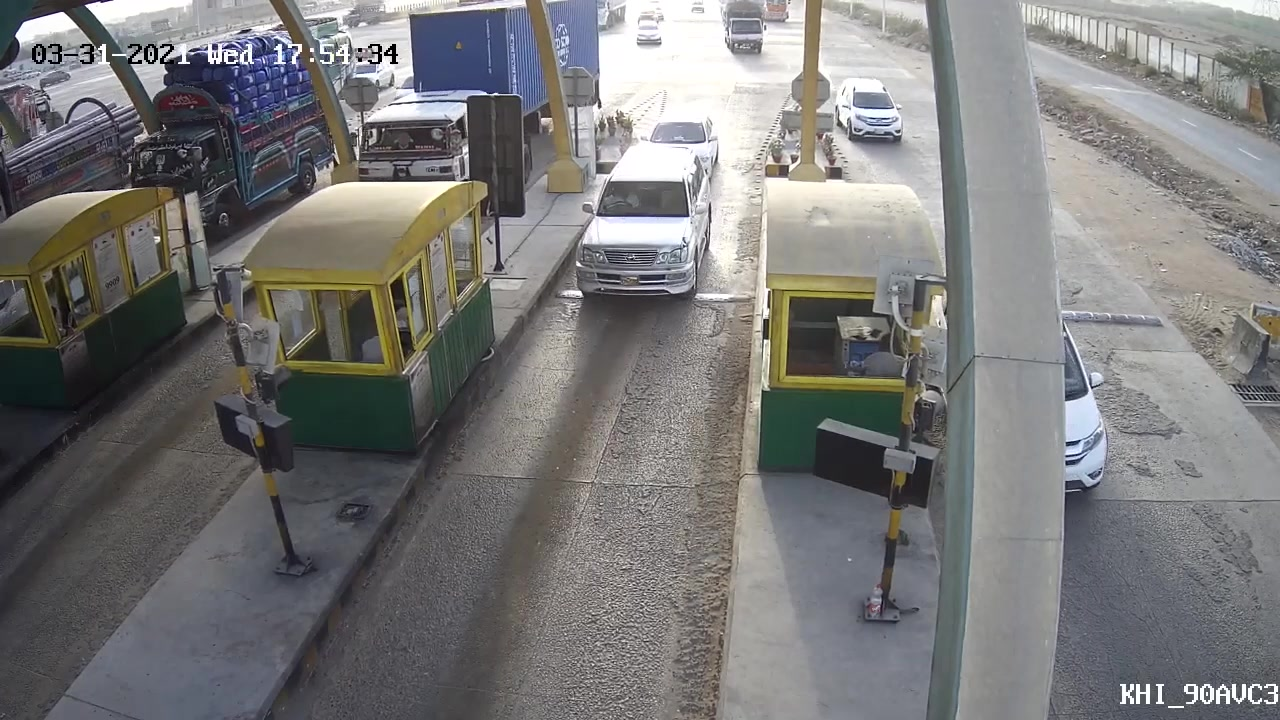F1: (568, 139, 716, 306)
